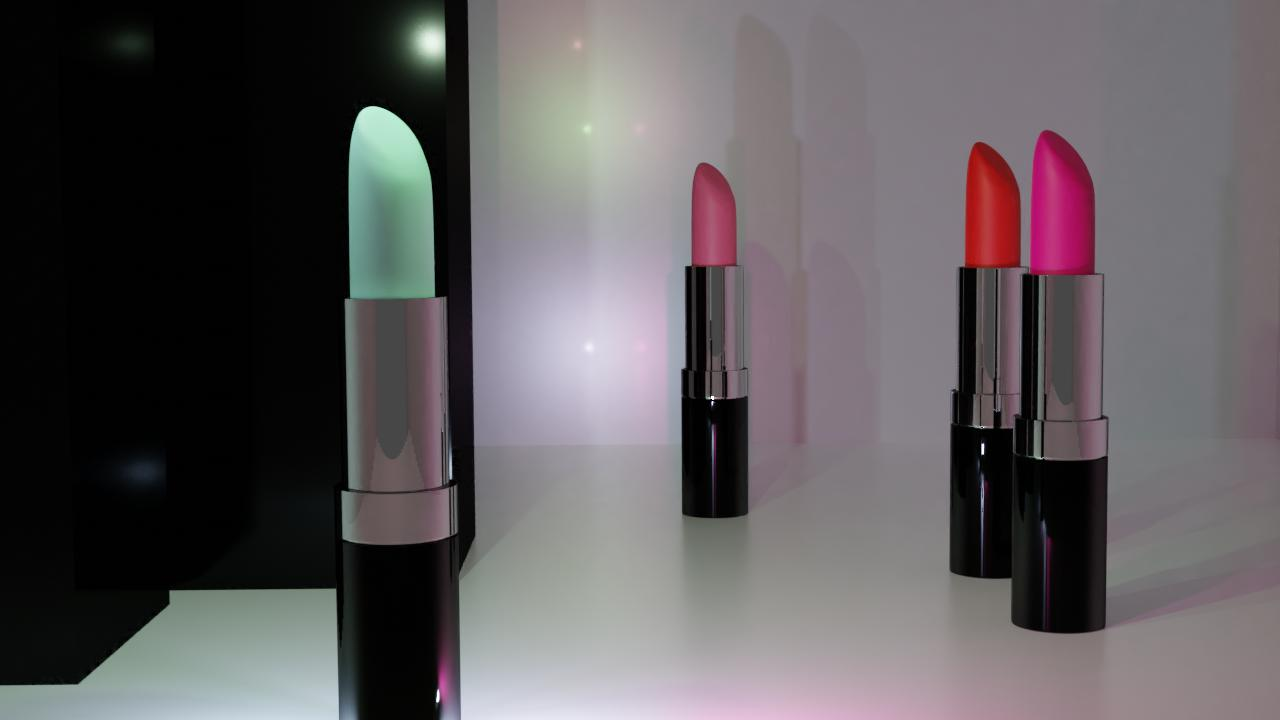CLASSIFIER_NAME: (331, 98, 463, 720), (1009, 124, 1111, 634), (948, 136, 1035, 578), (680, 158, 749, 524)
